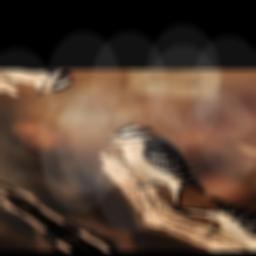Woodpecker: (72, 117, 230, 213)
